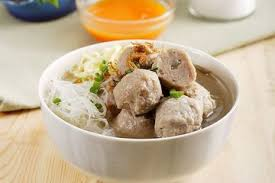bakso: (118, 49, 230, 148)
